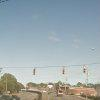Traffic light: (29, 62, 74, 82)
